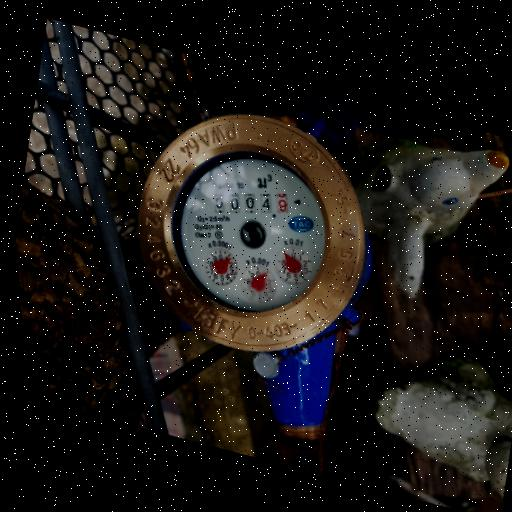0: (238, 190, 259, 215), (208, 191, 228, 215), (225, 191, 244, 215)
4: (254, 190, 276, 216)
9: (271, 191, 292, 216)
border_water_meter_number: (206, 172, 296, 233)
